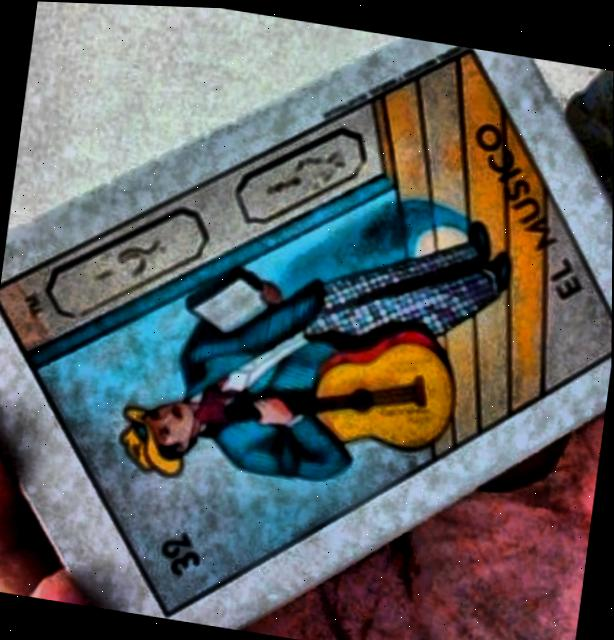El Musico: (0, 49, 612, 608)
